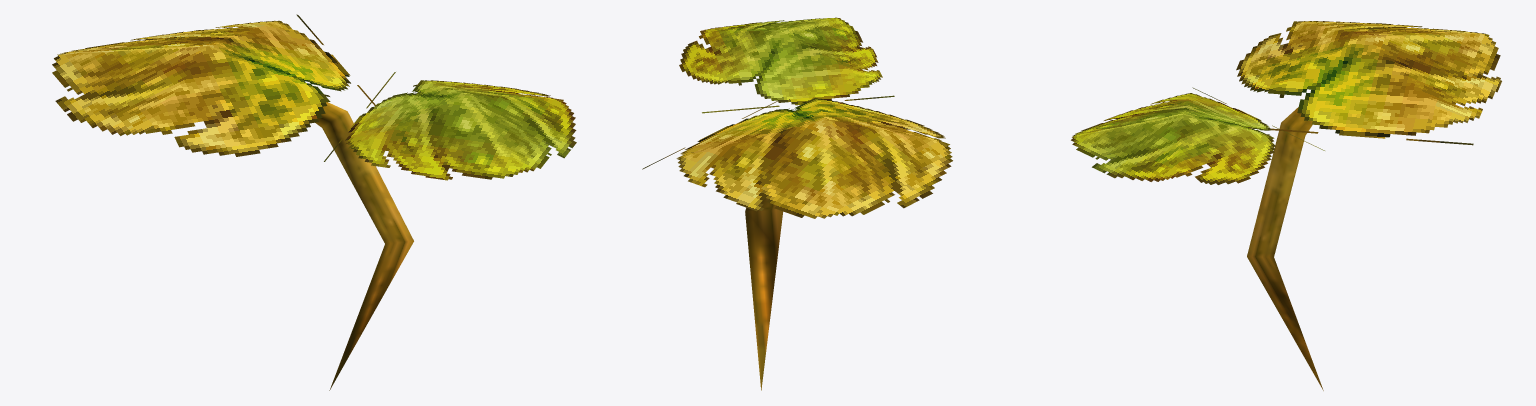
File: swampofsorrowlilypad02.glb
The picture shows the model from 3 angles, left to right: view 1: azimuth 30°, elevation 25°; view 2: azimuth 150°, elevation 25°; view 3: azimuth 270°, elevation 25°; orthographic projection. The views are drawn at different scales.
Size of the model in its own units: 1.84 by 1.38 by 1.92.
Materials: 3 (3 with a texture image).
